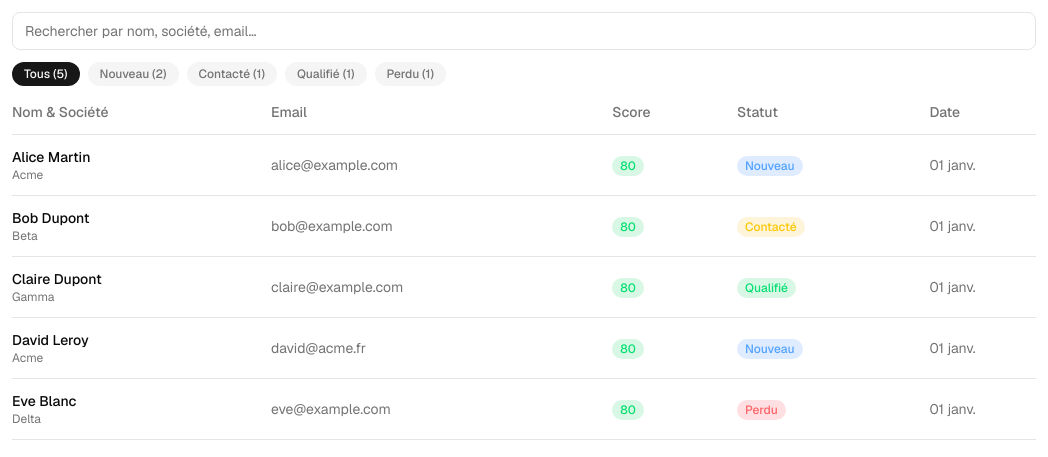
Test: LeadsList — interaction recherche + filtres statut › remet à zéro les counts quand la recherche est effacée
Type "dupont" into the field with placeholder "Rechercher par nom, société, email…".
click(524, 31); type("dupont")  # box [12, 12, 1036, 50]
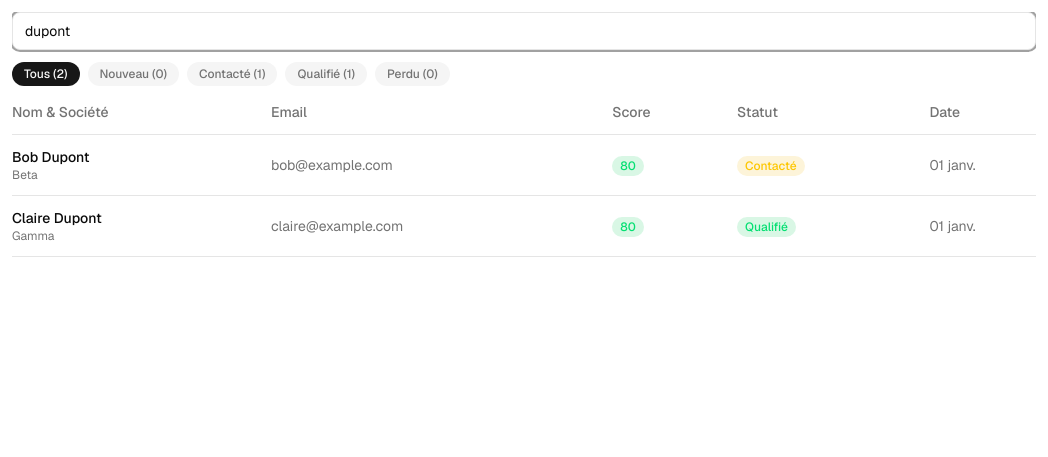
Result: the button "Tous (2)" is shown at [12, 62, 80, 86]
Clear the field with placeholder "Rechercher par nom, société, email…" at (524, 31), box [12, 12, 1036, 50]
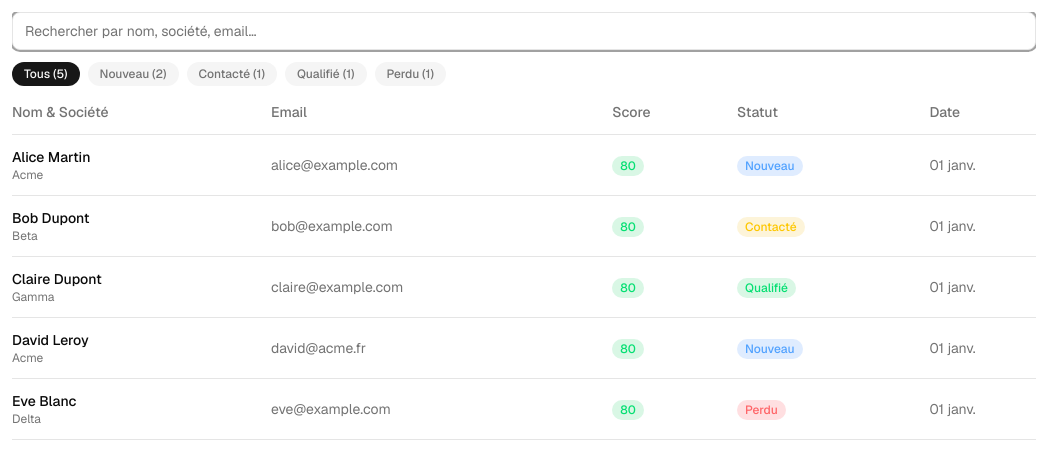
Result: the button "Tous (5)" is shown at [12, 62, 80, 86]
